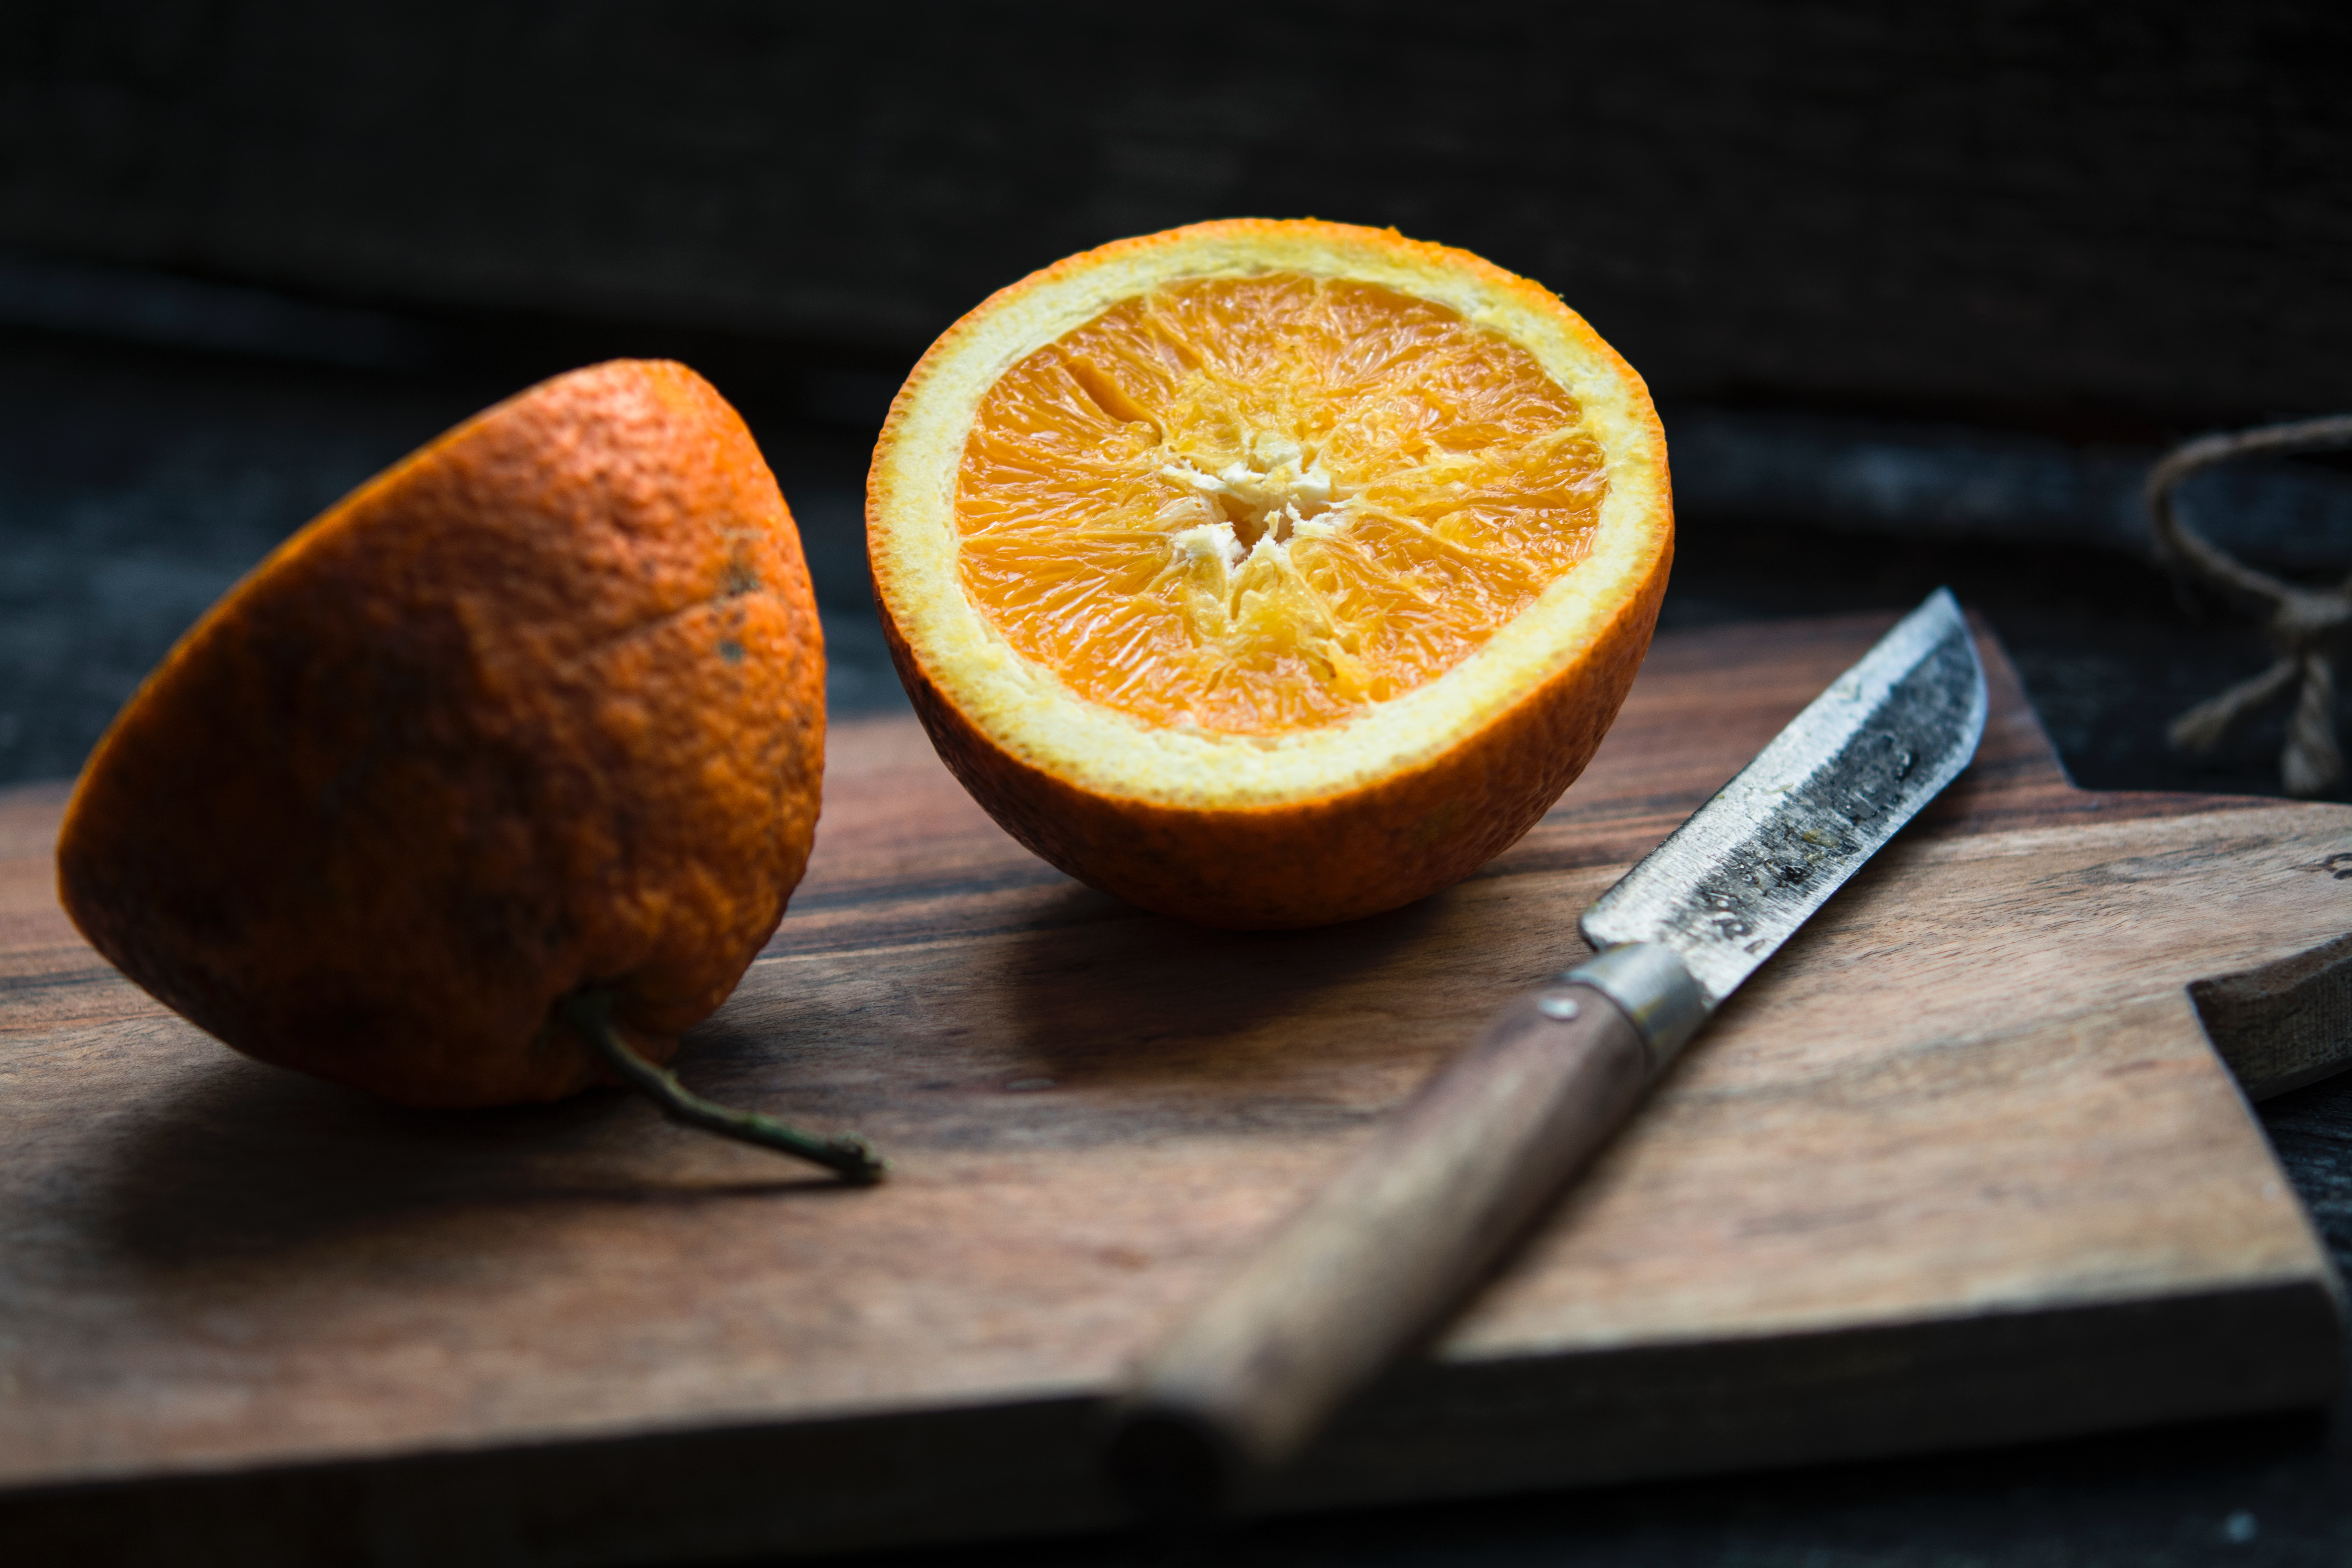knife: (1045, 579, 2046, 1468)
